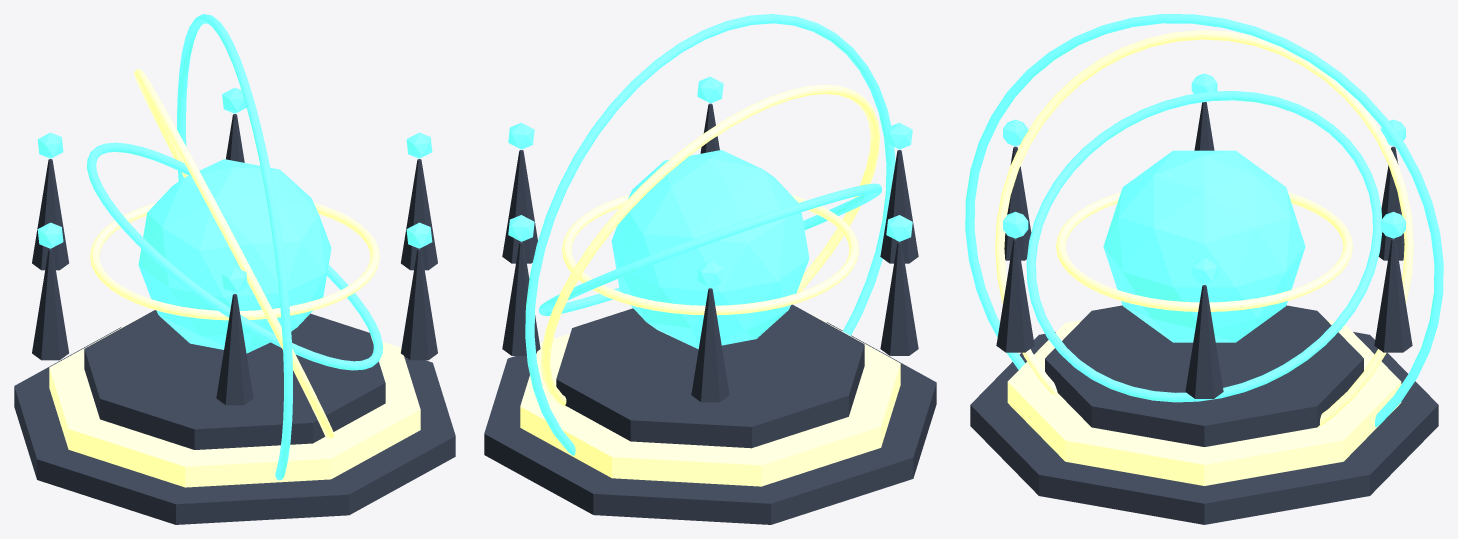
The model's file is gpu-blender-v41.glb.
3 renders of one model, left to right at view 1: azimuth 30°, elevation 25°; view 2: azimuth 150°, elevation 25°; view 3: azimuth 270°, elevation 25°, orthographic. The views are drawn at different scales.
Parts seen in each view (by area): view 1: Cylinder.002, Cylinder, SovereignCore_envguard-secrets-vault, Cylinder.001, Torus.003, Torus.001, Torus.002, Torus, Cone.004, Cone.003, Cone.005, Cone.002 (+7 smaller); view 2: Cylinder.002, SovereignCore_envguard-secrets-vault, Cylinder, Cylinder.001, Torus.003, Torus.002, Torus.001, Torus, Cone.002, Cone.003, Cone.001, Cone.004 (+7 smaller); view 3: SovereignCore_envguard-secrets-vault, Cylinder.002, Cylinder, Cylinder.001, Torus.003, Torus.001, Torus.002, Torus, Cone.001, Cone.005, Cone, Cone.004 (+3 smaller).
Part boxes in pixels (x1,y1,x2,y2): Cylinder.002: (84,310,385,449); Cylinder: (14,327,455,524); SovereignCore_envguard-secrets-vault: (138,159,331,353); Cylinder.001: (49,318,420,487); Torus.003: (177,14,292,480); Torus.001: (87,142,382,370); Torus.002: (134,69,334,438); Torus: (90,203,379,320); Cone.004: (216,294,253,405); Cone.003: (32,249,68,360); Cone.005: (401,249,437,360); Cone.002: (32,159,68,270); Cylinder.002: (556,304,864,448); SovereignCore_envguard-secrets-vault: (611,150,809,349); Cylinder: (484,322,936,524); Cylinder.001: (520,313,900,486); Torus.003: (525,14,895,455); Torus.002: (541,84,879,406); Torus.001: (539,183,881,315); Torus: (562,195,858,315); Cone.002: (691,288,729,402); Cone.003: (880,242,918,355); Cone.001: (502,242,540,355); Cone.004: (880,150,918,263); SovereignCore_envguard-secrets-vault: (1103,150,1305,342); Cylinder.002: (1045,305,1363,446); Cylinder: (970,332,1438,524); Cylinder.001: (1007,320,1401,485); Torus.003: (965,14,1443,427); Torus.001: (1026,91,1382,402); Torus.002: (995,30,1413,426); Torus: (1056,192,1352,311); Cone.001: (1374,239,1412,352); Cone.005: (996,239,1034,352); Cone: (1185,285,1223,398); Cone.004: (1004,146,1031,260).
Bounding box in the file's own units: 4.41 × 4.7 × 4.49.
